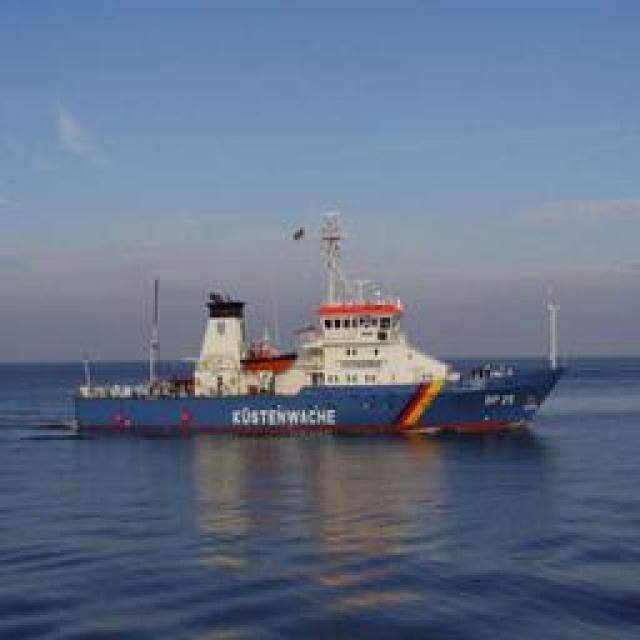CIV_Ship: (52, 230, 540, 435)
